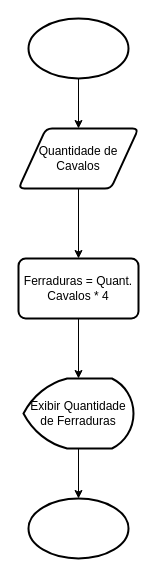
Some shapes in this 156 by 576 pixel diagram are drawn without their labels. The shapes that lost their labels are listed below. From the top down, each one's box as (x1, y1, x2, y2) in pixels, then its label:
(27, 17, 129, 79): Exercício 2
(27, 497, 129, 559): Fim
